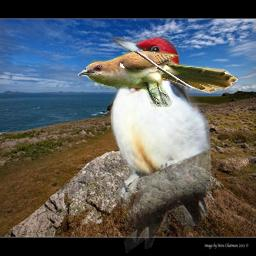Cuckoo: (78, 51, 239, 107)
Woodpecker: (105, 36, 215, 256)
